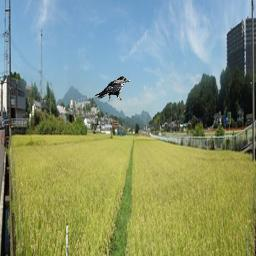Crow: (94, 76, 130, 102)
